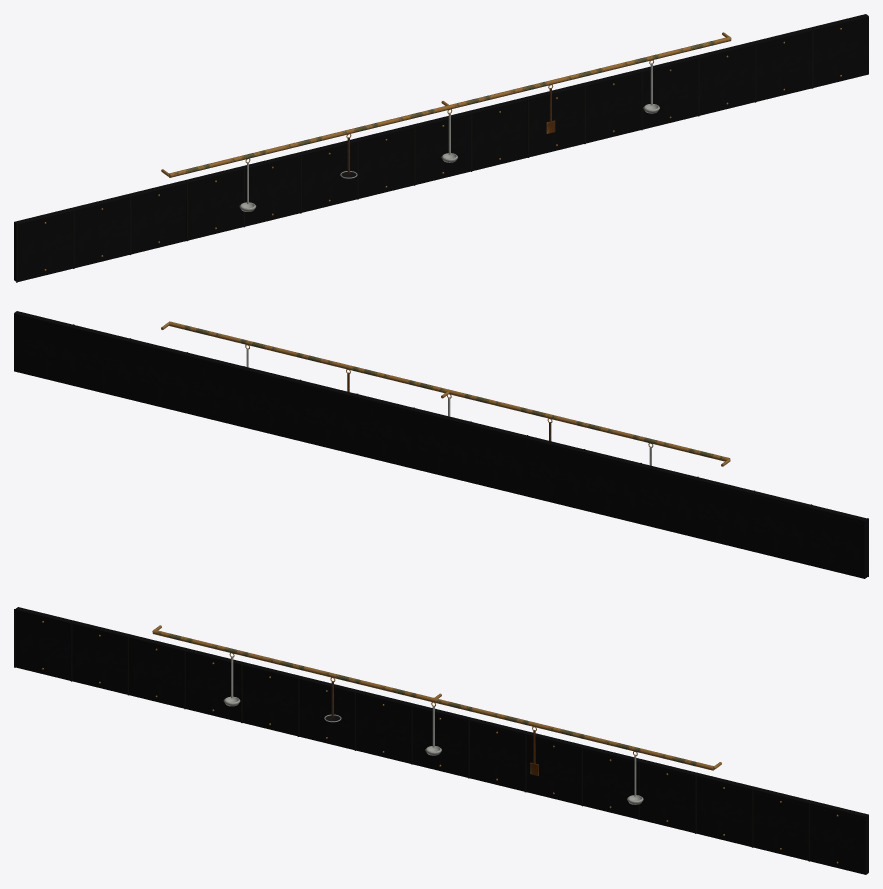
The model's file is PROP_NightBlue_Stove_Iron.glb.
3 renders of one model, top to bottom at view 1: azimuth 30°, elevation 25°; view 2: azimuth 150°, elevation 25°; view 3: azimuth 330°, elevation 25°, orthographic.
Parts seen in each view (by area): view 1: PROP_NightBlue_Stove_Iron; view 2: PROP_NightBlue_Stove_Iron; view 3: PROP_NightBlue_Stove_Iron.
Part boxes in pixels (x1,y1,x2,y2): PROP_NightBlue_Stove_Iron: (14, 14, 868, 282); PROP_NightBlue_Stove_Iron: (14, 311, 868, 578); PROP_NightBlue_Stove_Iron: (14, 607, 868, 874).
Bounding box in the file's own units: 7.6 × 0.668 × 0.22.
6 materials, 6 textured.
